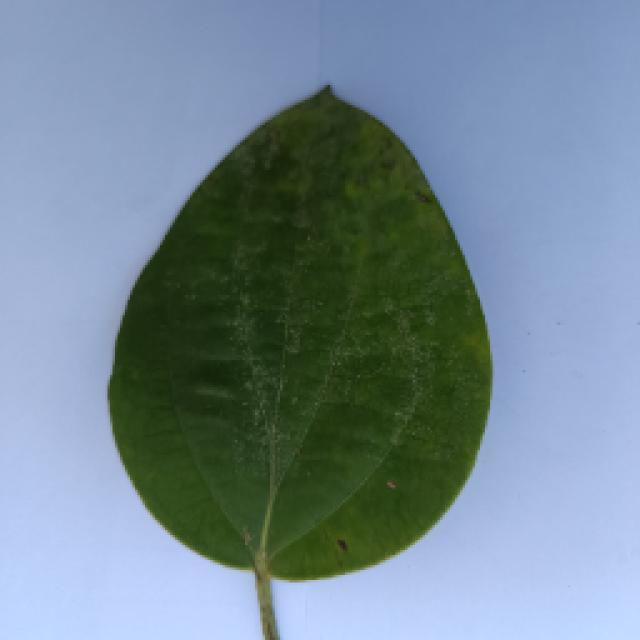slow-decline: (102, 82, 490, 608)
